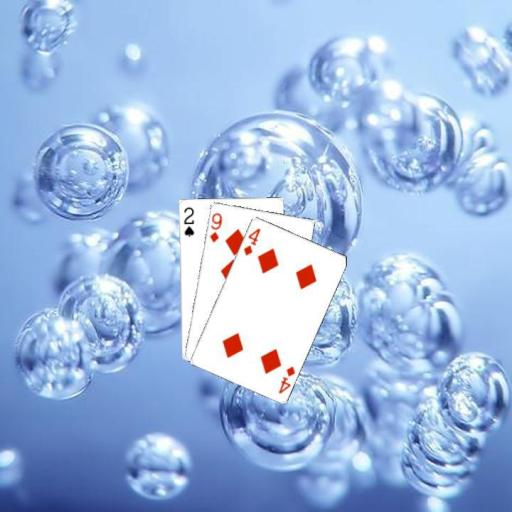2S: (180, 204, 195, 238)
4D: (240, 225, 262, 257), (275, 363, 297, 395)
9D: (207, 209, 224, 243)
